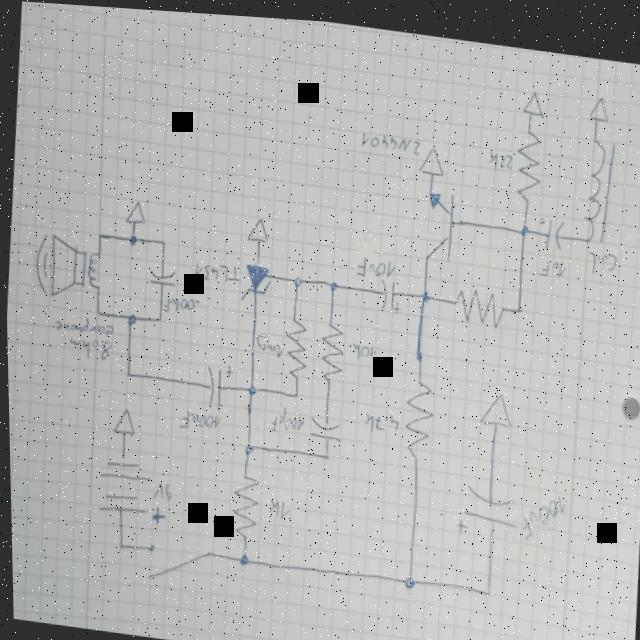capacitor: (450, 477, 518, 536), (200, 358, 234, 410), (535, 207, 565, 246), (305, 411, 343, 440), (376, 272, 402, 311), (147, 265, 177, 289)
ground: (476, 383, 514, 425), (418, 139, 446, 173), (109, 404, 136, 437), (520, 80, 545, 110), (245, 212, 269, 242), (586, 86, 610, 115), (122, 196, 146, 224)
inductor: (578, 129, 618, 241)
junction: (516, 213, 531, 234), (234, 549, 249, 567), (400, 568, 414, 586), (418, 283, 431, 301), (244, 379, 257, 397), (124, 311, 137, 327), (326, 274, 339, 290), (290, 271, 303, 287), (242, 439, 254, 454), (127, 232, 138, 247), (113, 538, 124, 552), (480, 580, 490, 593), (290, 386, 299, 398), (515, 299, 523, 310), (124, 368, 132, 379), (322, 448, 330, 458), (95, 230, 103, 240), (158, 236, 166, 244), (93, 309, 100, 317), (155, 314, 162, 322)
resistor: (401, 371, 434, 457), (449, 279, 507, 325), (513, 118, 544, 199), (227, 468, 260, 540), (316, 317, 345, 382), (280, 313, 308, 377)
source: (93, 453, 168, 528)
switch: (139, 537, 211, 586)
text: (517, 481, 567, 539), (359, 125, 422, 152), (51, 314, 112, 339), (191, 256, 242, 285), (267, 398, 306, 433), (65, 333, 111, 362), (176, 404, 221, 433), (355, 249, 397, 278), (160, 289, 201, 316), (361, 404, 400, 431), (585, 241, 618, 269), (254, 330, 284, 356), (487, 141, 515, 167), (536, 250, 567, 273), (149, 477, 174, 503), (264, 494, 289, 519), (348, 336, 376, 357)
thyristor: (239, 258, 273, 300)
transistor: (414, 180, 457, 262)
